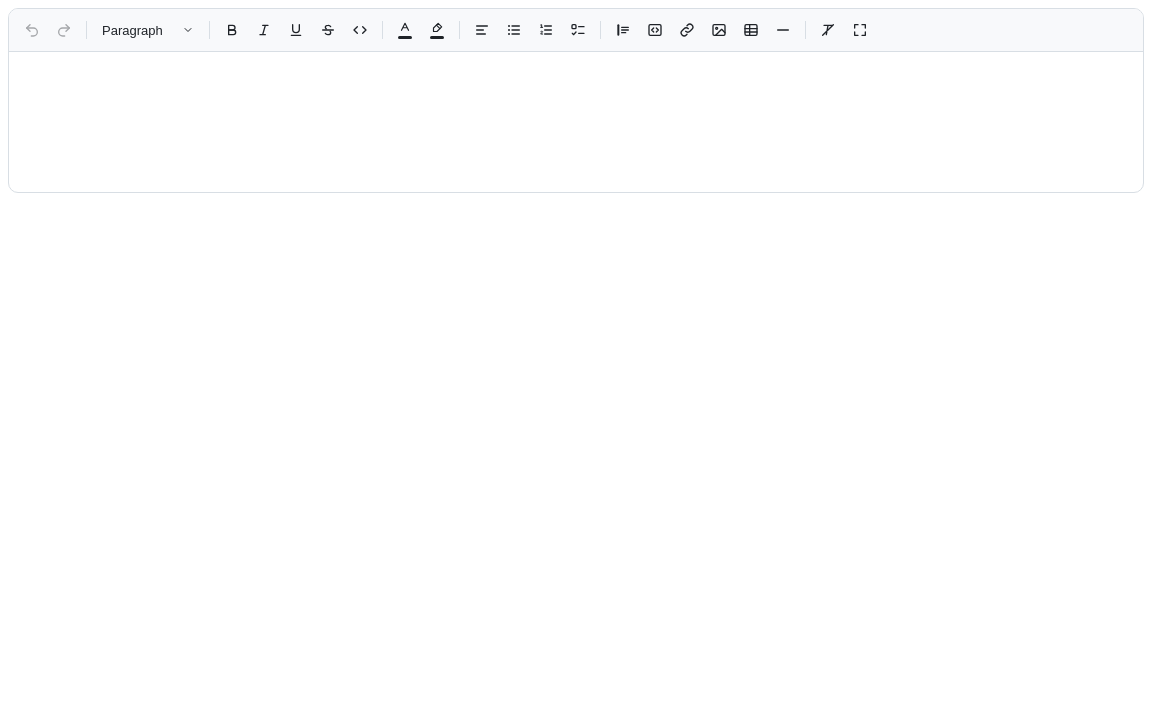
RichTextEditor › toggles fullscreen
Expected: the field with class "richkit-content" is shown, [9,52,1143,192]
Click the button named "Fullscreen".
click(860, 30)  # box [845,15,875,45]
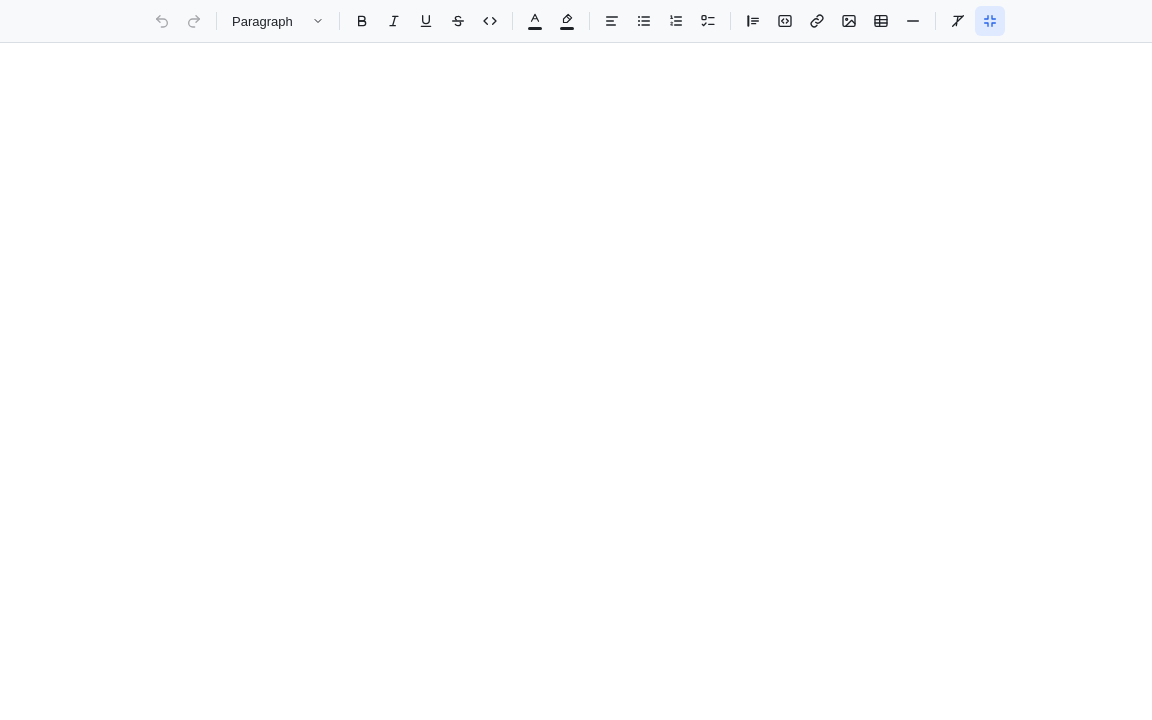
Result: the element with class "richkit" has attribute data-fullscreen
Click the button named "Exit fullscreen".
click(990, 21)  # box [975,6,1005,36]
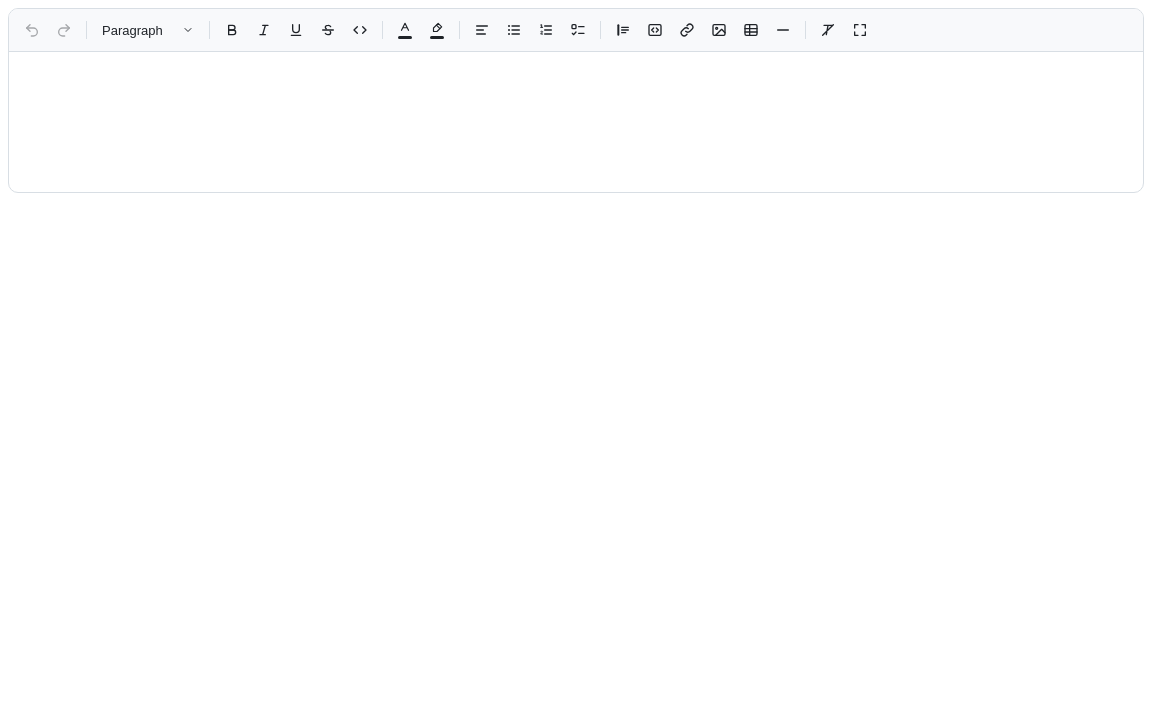
Result: the element with class "richkit" does not have attribute data-fullscreen at [8,8,1144,193]
